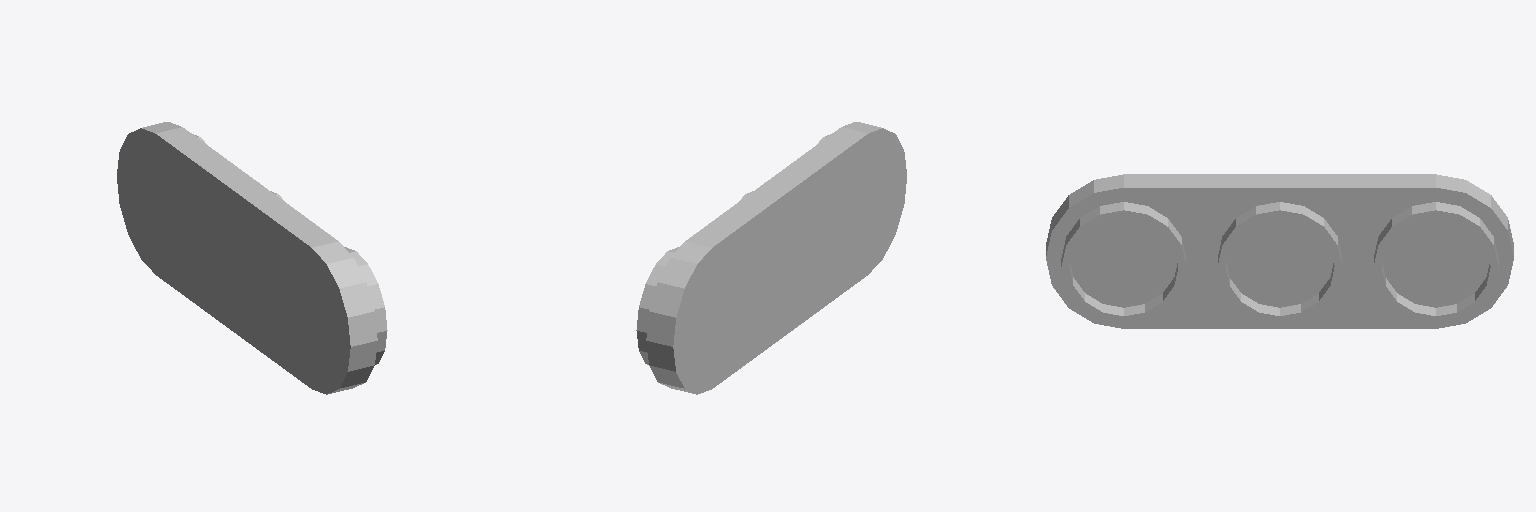
3 renders of one model, left to right at view 1: azimuth 30°, elevation 25°; view 2: azimuth 150°, elevation 25°; view 3: azimuth 270°, elevation 25°, orthographic.
Parts seen in each view (by area): view 1: traffic_light_base_柱体.001_柱体.011; view 2: traffic_light_base_柱体.001_柱体.011; view 3: traffic_light_base_柱体.001_柱体.011.
Boxes of the visible parts, <box> form: traffic_light_base_柱体.001_柱体.011: <box>117,122,387,394</box>; traffic_light_base_柱体.001_柱体.011: <box>636,122,906,394</box>; traffic_light_base_柱体.001_柱体.011: <box>1046,174,1513,328</box>.
Size of the model in its own units: 0.3299 by 1 by 3.